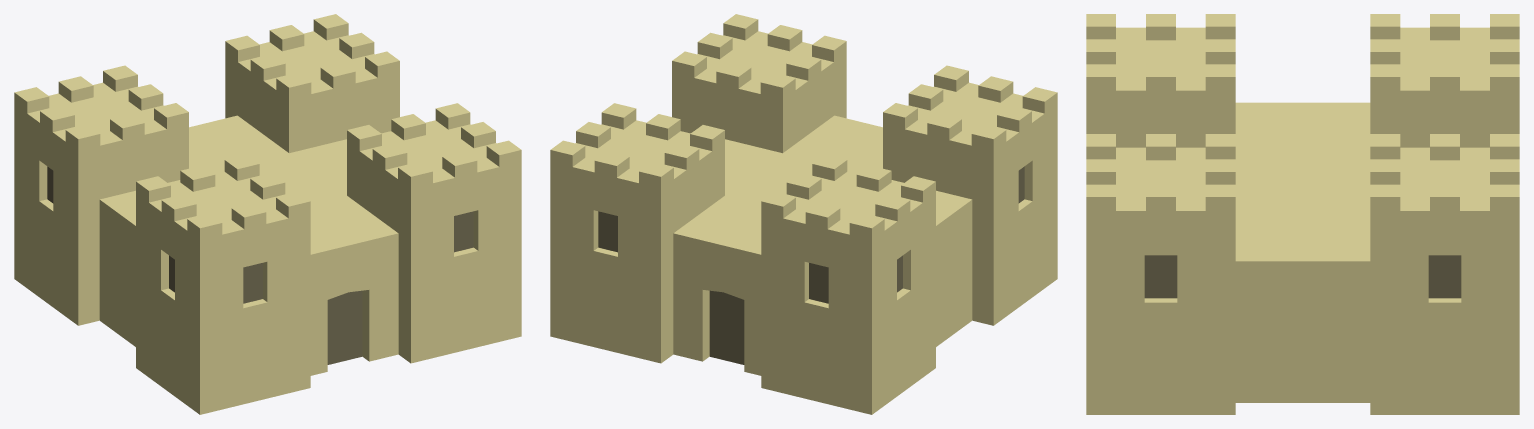
File: Sandcastle_tex.fbx
3 views of the same model, side by side, from view 1: azimuth 30°, elevation 25°; view 2: azimuth 150°, elevation 25°; view 3: azimuth 270°, elevation 25° (orthographic). The views are drawn at different scales.
Visible parts, largest first — view 1: Sandcastle_tex; view 2: Sandcastle_tex; view 3: Sandcastle_tex.
Boxes of the visible parts, x1=… form: Sandcastle_tex: x1=14, y1=14, x2=521, y2=414; Sandcastle_tex: x1=550, y1=14, x2=1057, y2=414; Sandcastle_tex: x1=1086, y1=14, x2=1519, y2=414.
Bounding box in the file's own units: 0.9349 × 0.5186 × 0.9349.
